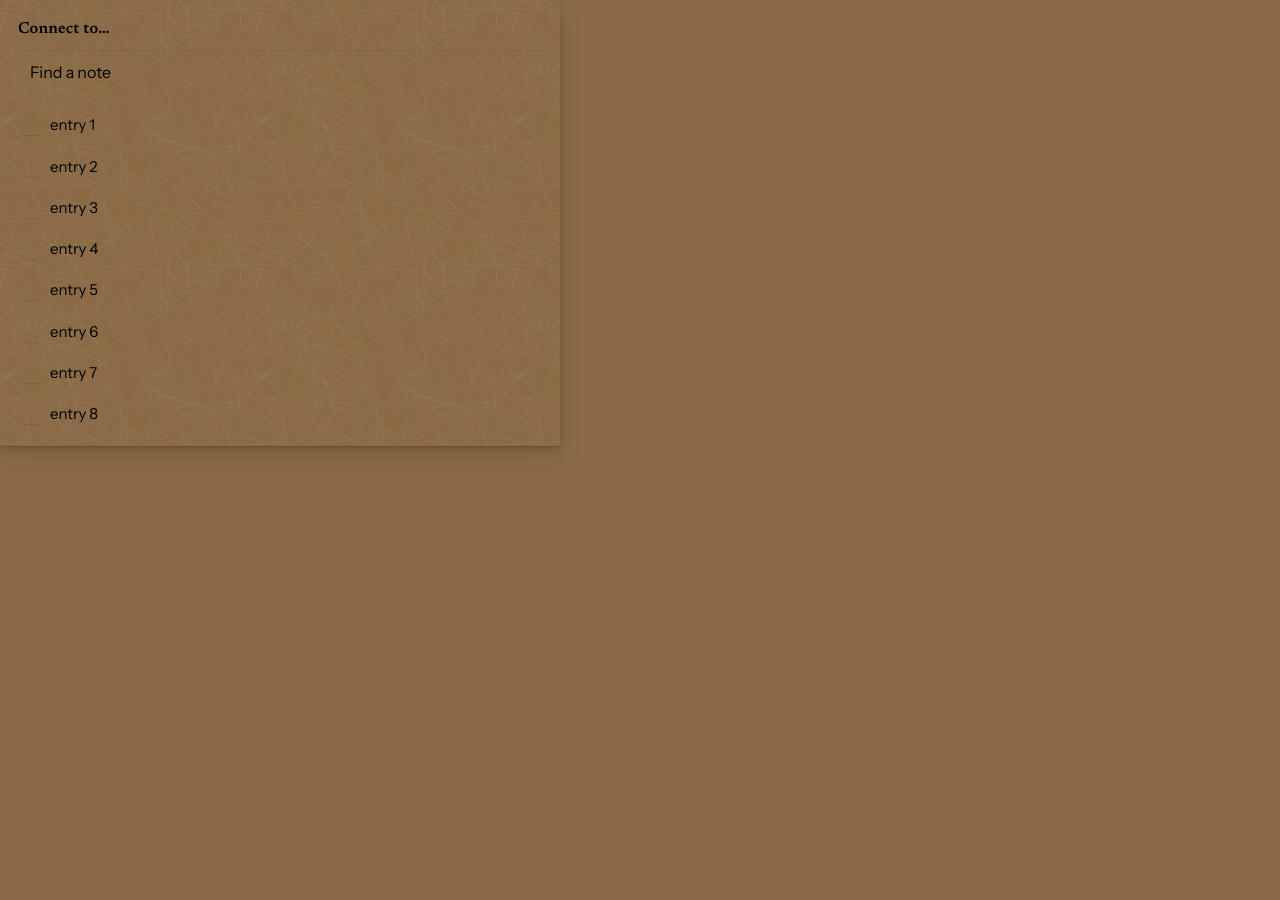
Test: Picker and its index › shows the answer to what is typed now, not to the keys before it
Type "entry 19" into the dropdown at (280, 72), box top-left (18, 50), bottom-right (542, 94)
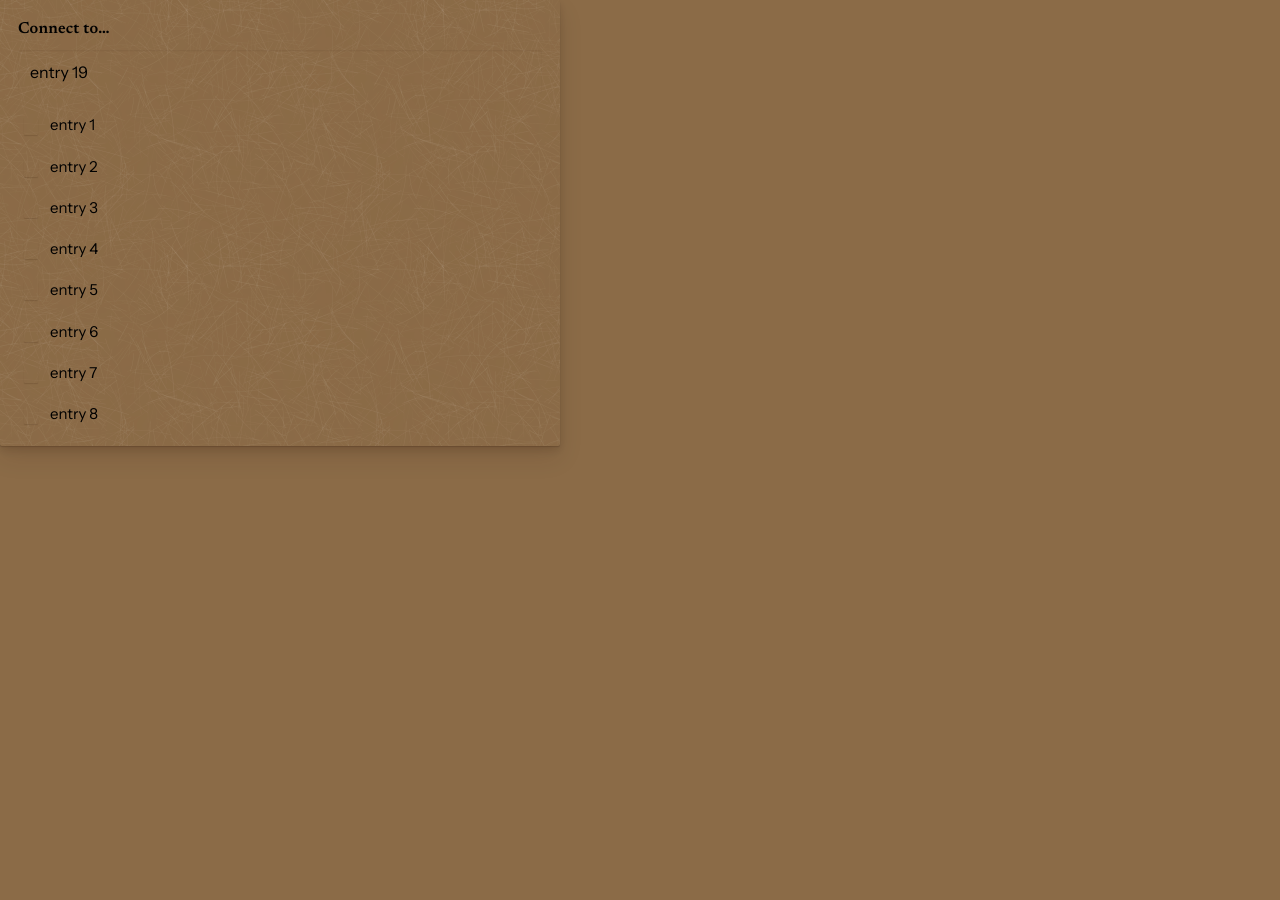
Replace the text in the dropdown with "entry 199" at (280, 72), box top-left (18, 50), bottom-right (542, 94)
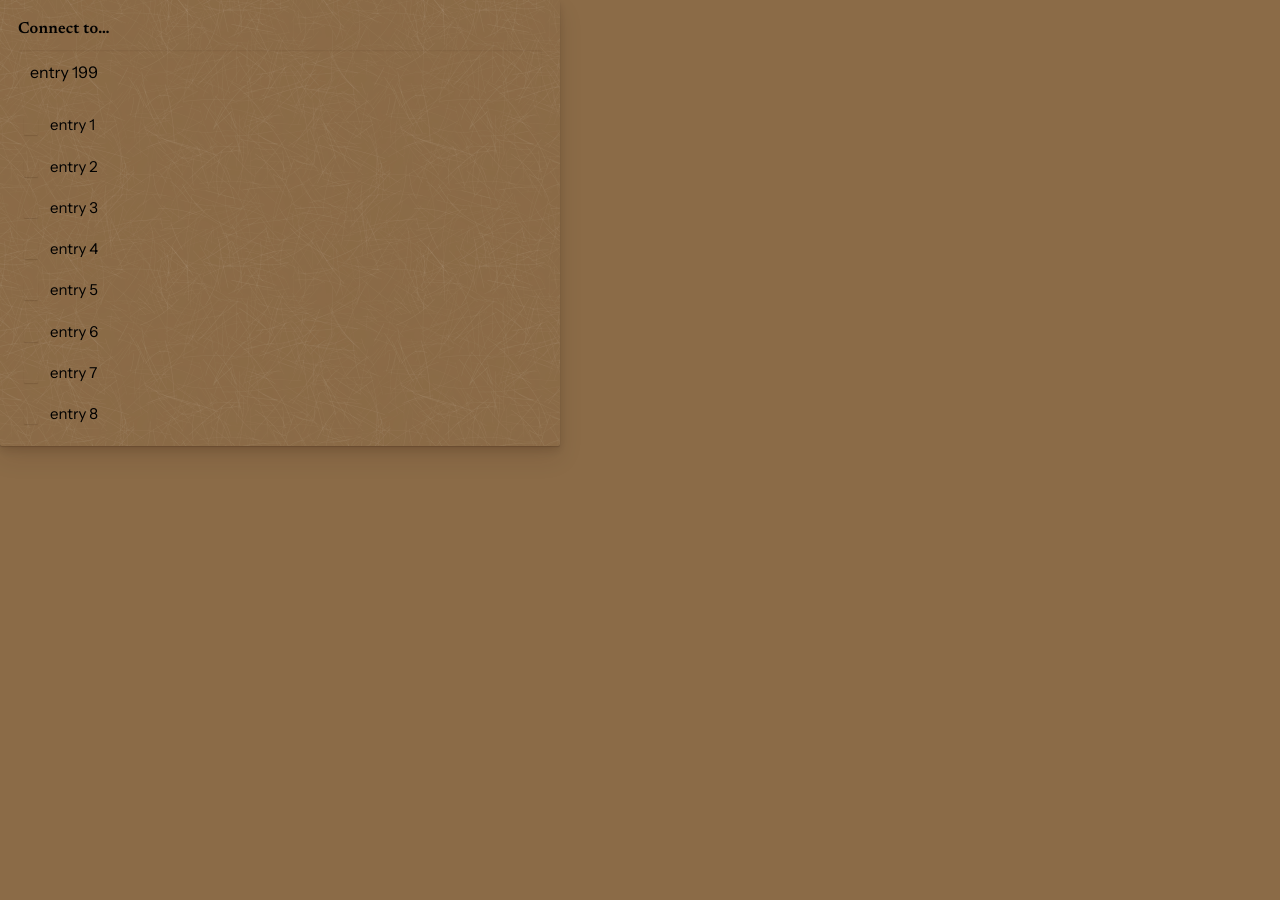
Replace the text in the dropdown with "entry 1998" at (280, 72), box top-left (18, 50), bottom-right (542, 94)
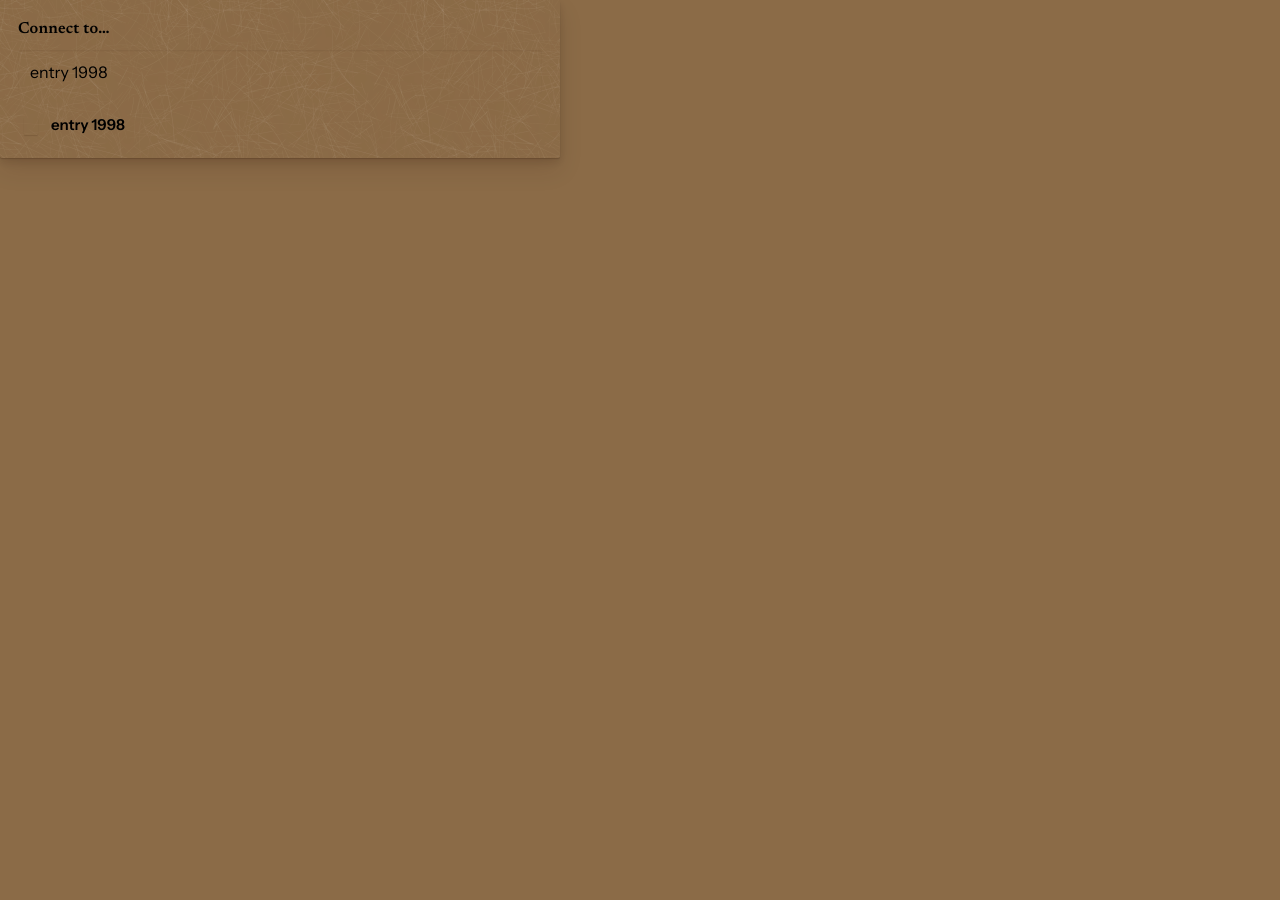
Result: the options read "entry 1998", in this order at top-left (24, 115), bottom-right (125, 135)
